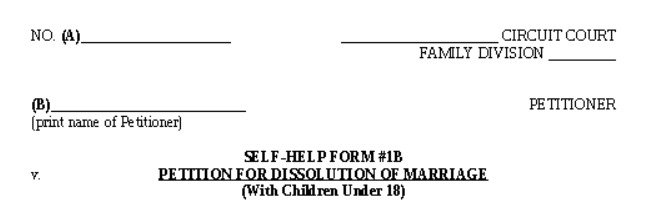textline: (49, 94, 247, 114), (339, 25, 499, 45), (78, 26, 233, 46), (546, 44, 617, 63)
